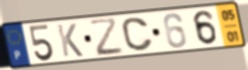5: (27, 23, 55, 63)
6: (191, 9, 219, 46), (162, 12, 188, 49)
C: (120, 16, 155, 52)
K: (55, 22, 85, 59)
Z: (87, 16, 126, 58)
